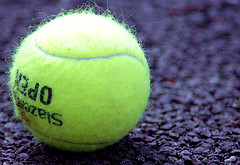tennis ball: (9, 11, 152, 151)
